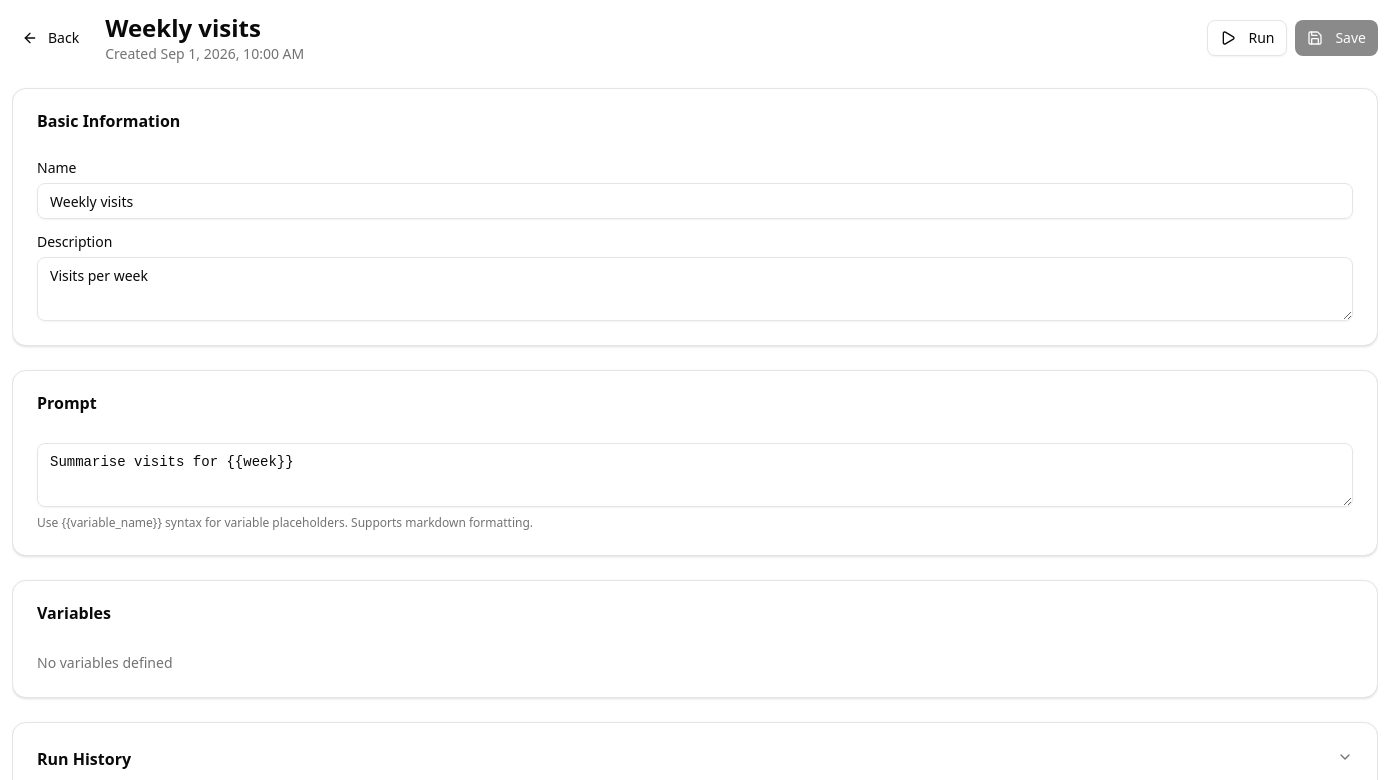
Test case: recipes for read-only members › explains a role denial instead of leaving an unhandled rejection
This screenshot has width=1390, height=780.
Type " v2" into the field labelled "Name" at (695, 201), box [37,183,1353,219]
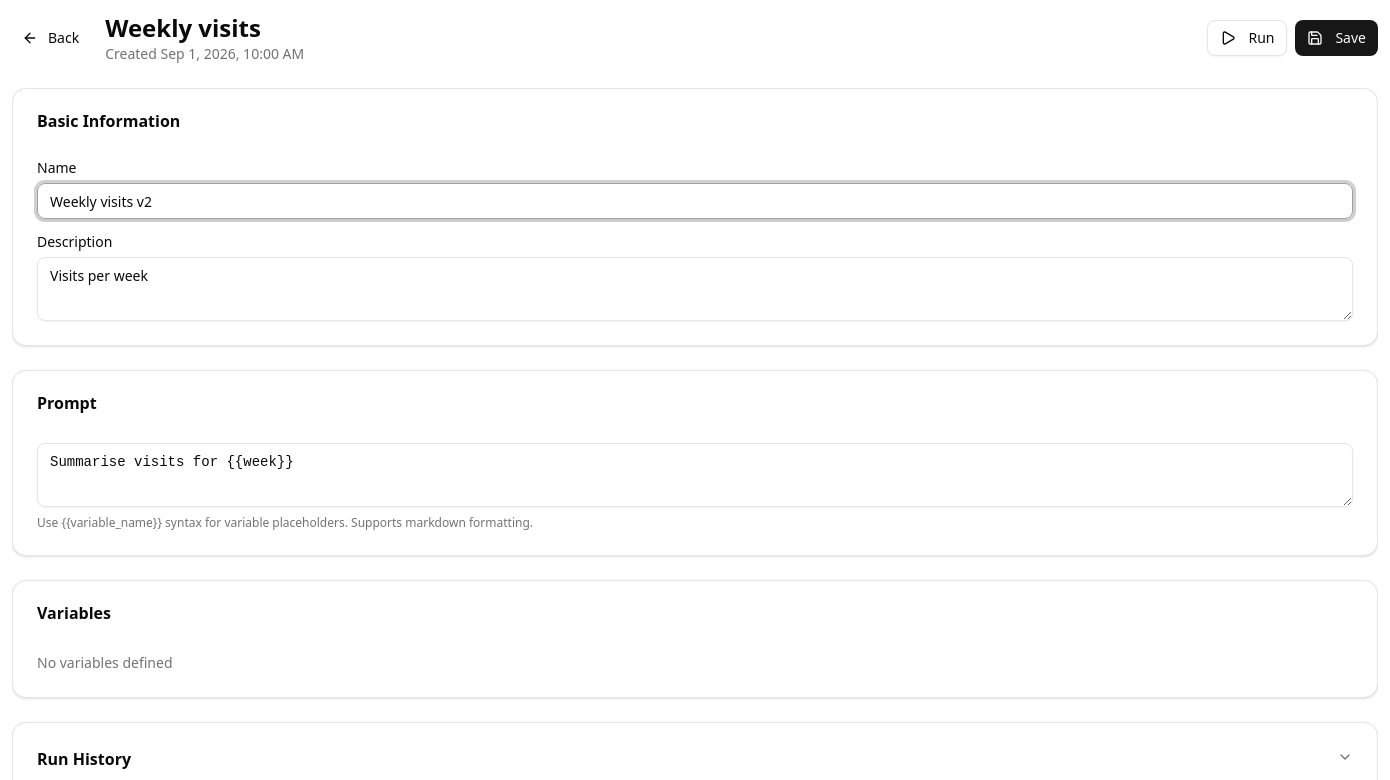
Click the button with test id "recipe-save" at (1337, 38), box [1295,20,1378,56]
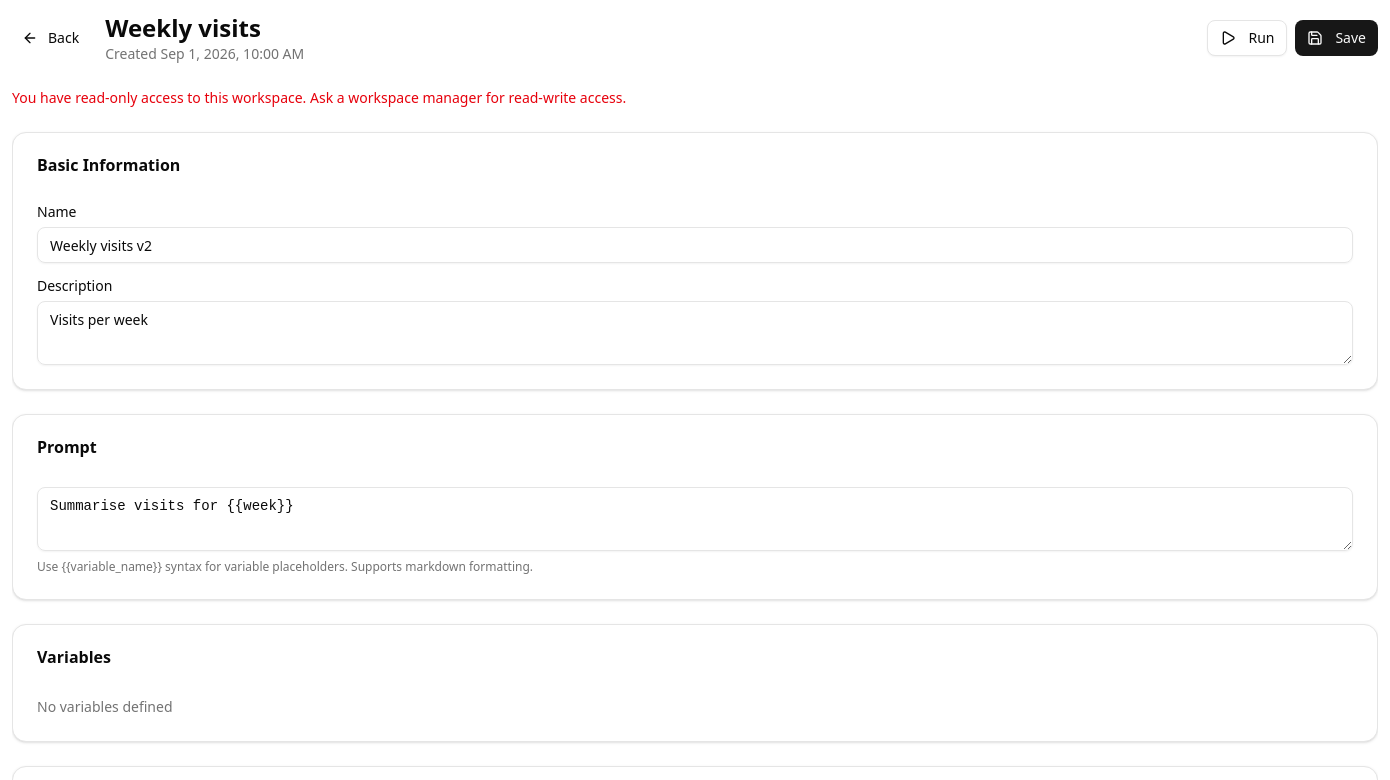
Now the message with test id "recipe-write-error" shows "You have read-only access to this workspace. Ask a workspace manager for read-write access.", box [12,88,626,107]
